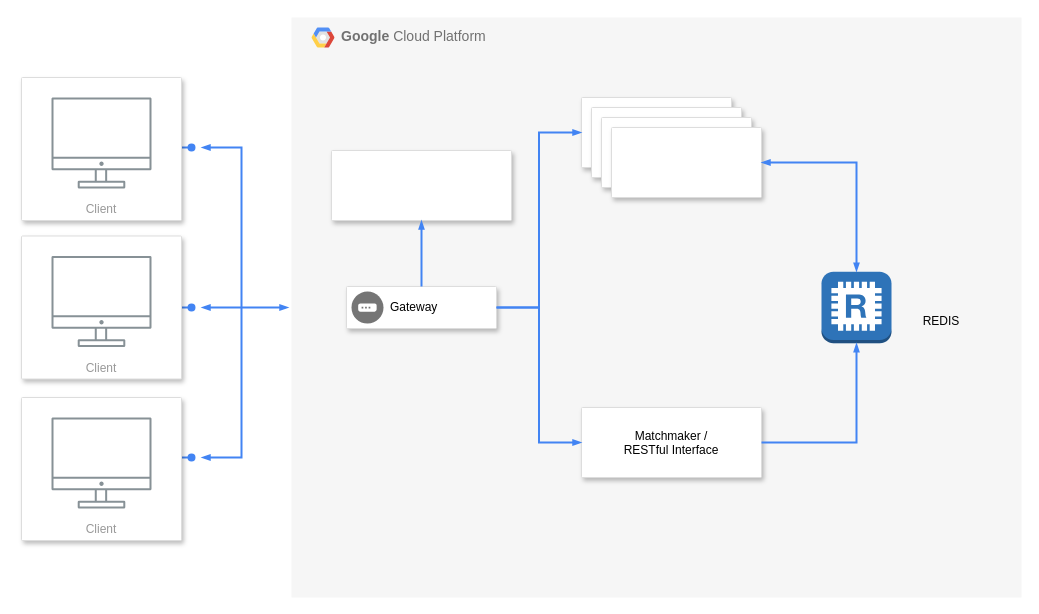
Some shapes in this 1039 by 614 pixel diagram are drawn without their labels. Each missing label, with the centre of its shape:
"GameEndpoint / WebSocket Connection" goes at point (687, 163).
"Static fileserver / Frontend" goes at point (422, 187).
